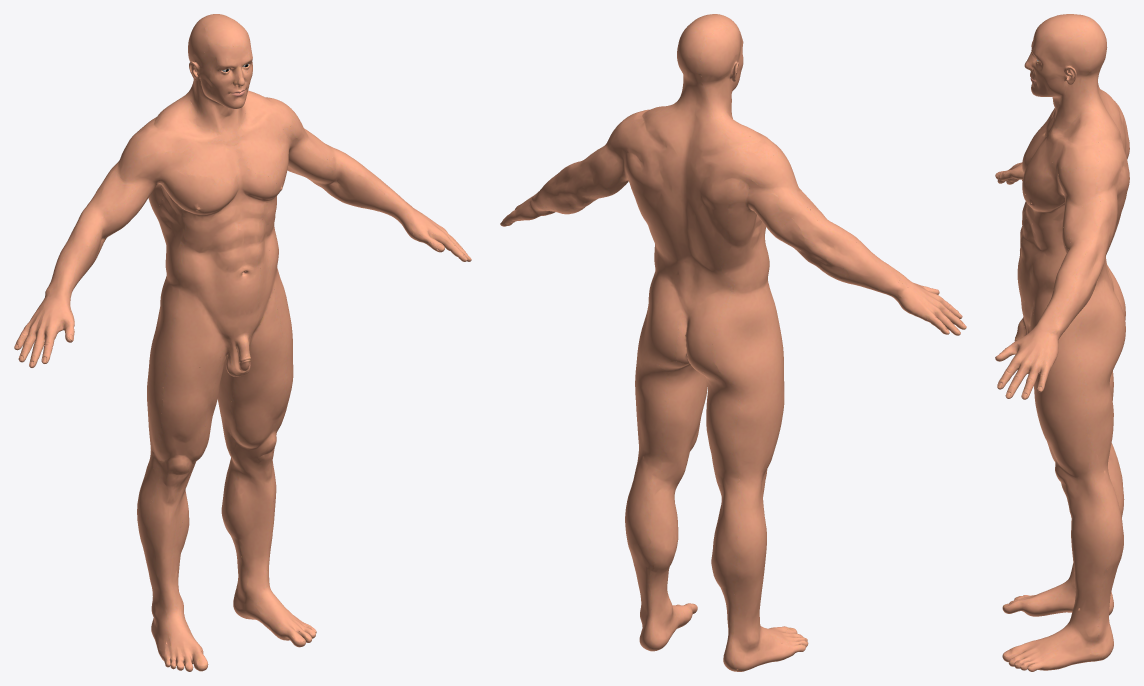
File: Scaled.glb
3 views of the same model, side by side, from view 1: azimuth 30°, elevation 25°; view 2: azimuth 150°, elevation 25°; view 3: azimuth 270°, elevation 25° (orthographic). The views are drawn at different scales.
Parts seen in each view (by area): view 1: Base_Sculpt; view 2: Base_Sculpt; view 3: Base_Sculpt.
Part boxes in pixels (x1,y1,x2,y2): Base_Sculpt: (14,14,471,671); Base_Sculpt: (500,14,966,671); Base_Sculpt: (995,14,1129,671).
Size of the model in its own units: 3.38 by 4.49 by 0.8799.
2 materials, 2 textured.
